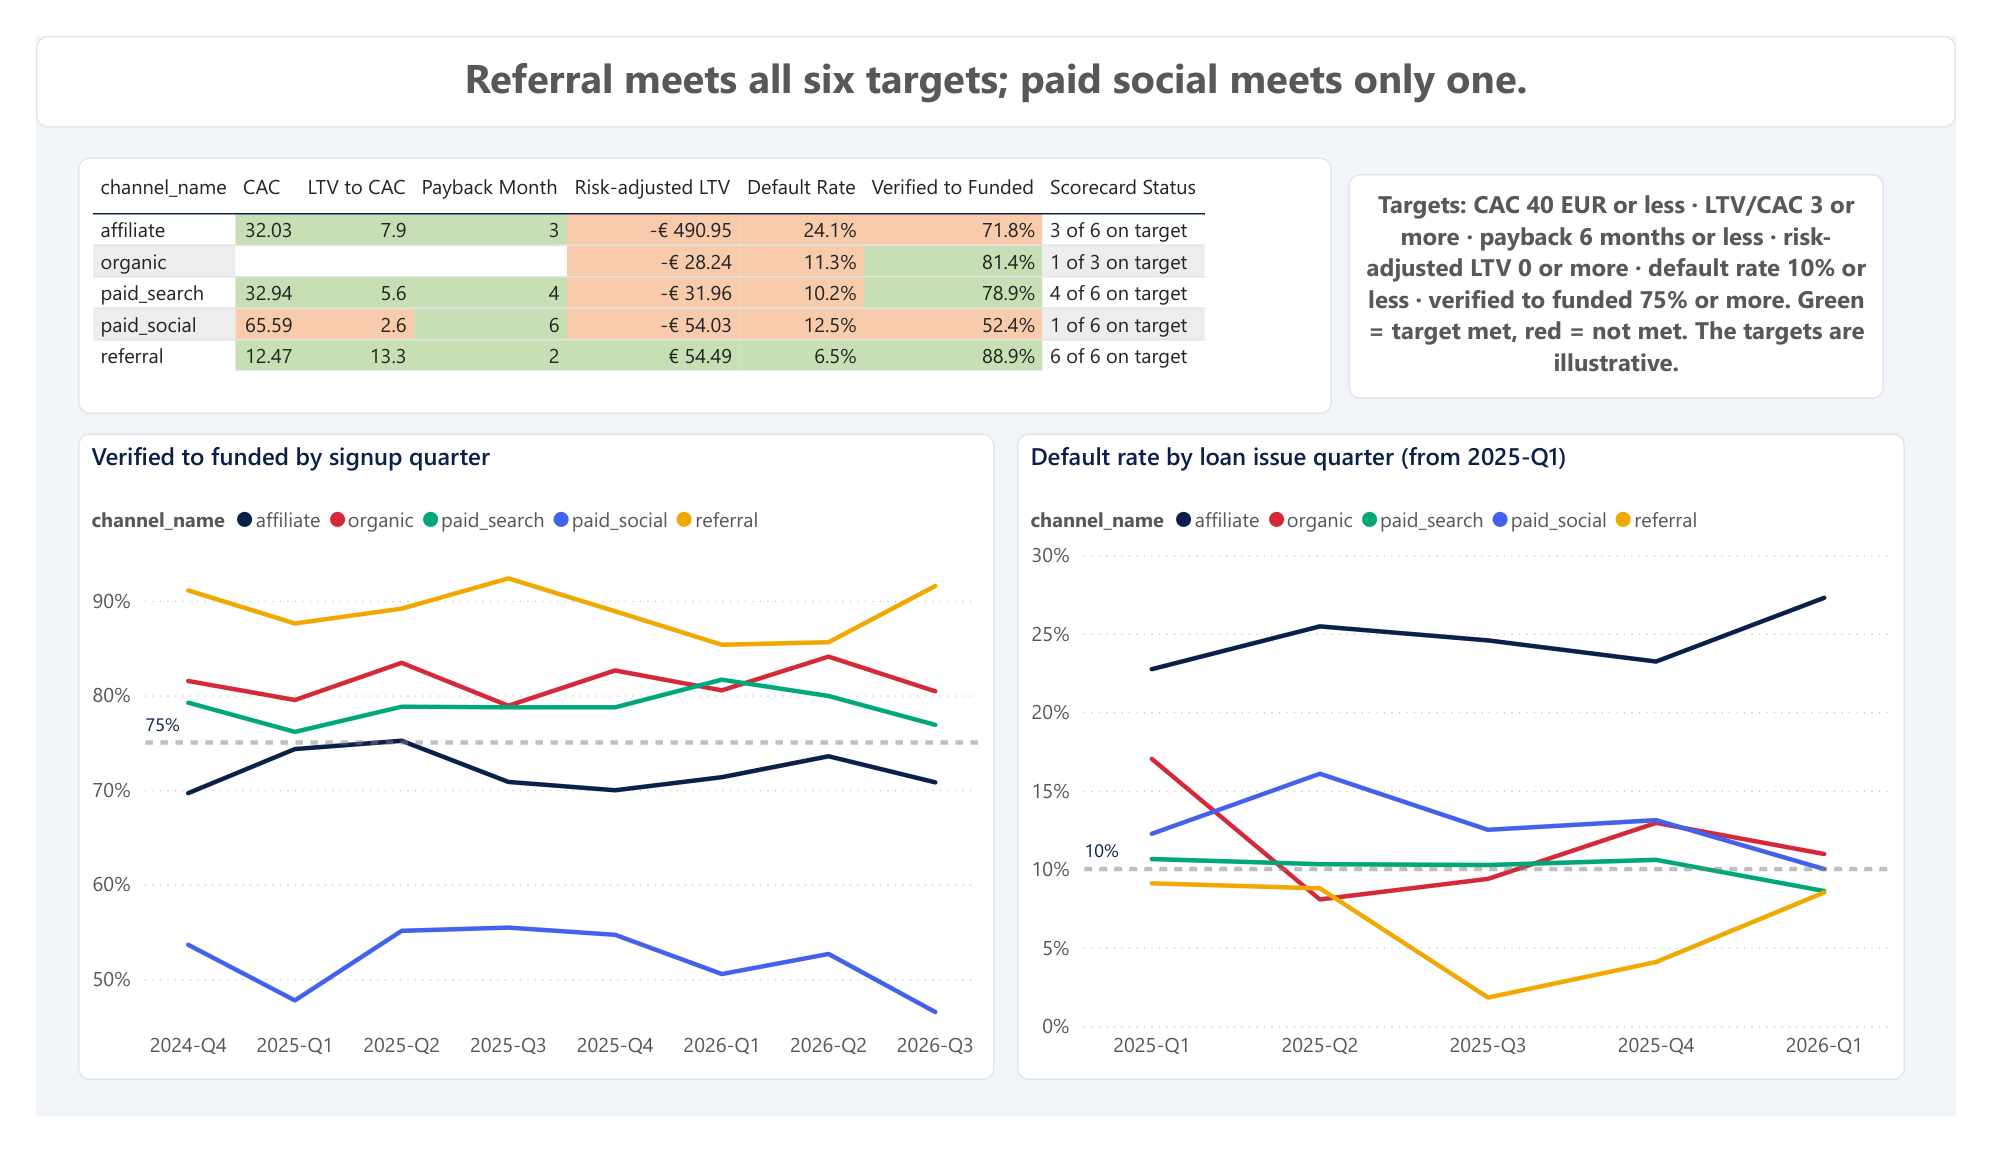

The dashboard page shown, as its layout file describes it:
{"tool":"powerbi","page":{"name":"KPI scorecard","canvas":[1280,720],"ordinal":5},"visuals":[{"type":"textbox","box":[0,0,1279.8,61.4],"z":0},{"type":"tableEx","fields":{"Values":["dim channel.channel_name","_Measures.CAC","_Measures.LTV to CAC","_Measures.Payback Month","_Measures.Risk-adjusted LTV","_Measures.Default Rate","_Measures.Verified to Funded","_Measures.Scorecard Status"]},"box":[28.2,81,835.6,170.6],"z":1},{"type":"lineChart","title":"Verified to funded by signup quarter","fields":{"Category":["rpt v_funnel.Signup Quarter"],"Series":["dim channel.channel_name"],"Y":["_Measures.Verified to Funded"]},"box":[28.4,265.2,611,431],"z":2},{"type":"lineChart","title":"Default rate by loan issue quarter (from 2025-Q1)","fields":{"Category":["rpt v_loan_dpd.Issue Quarter"],"Series":["dim channel.channel_name"],"Y":["_Measures.Default Rate"]},"box":[653.6,265.2,592,431],"z":3},{"type":"textbox","box":[874.9,92,357.1,149.7],"z":4}]}

Visuals, with their boxes in screenshot pixels (x1, y1, x2, y2), scaled from the page's 1280x720 canvas onto the 1992x1152 screenshot:
textbox: (0,0,1991,98)
tableEx - dim channel.channel_name x _Measures.CAC: (44,130,1344,403)
"Verified to funded by signup quarter" lineChart: (44,424,995,1114)
"Default rate by loan issue quarter (from 2025-Q1)" lineChart: (1017,424,1938,1114)
textbox: (1362,147,1917,387)
